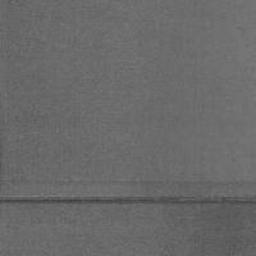Welding line: (0, 195, 256, 207)
